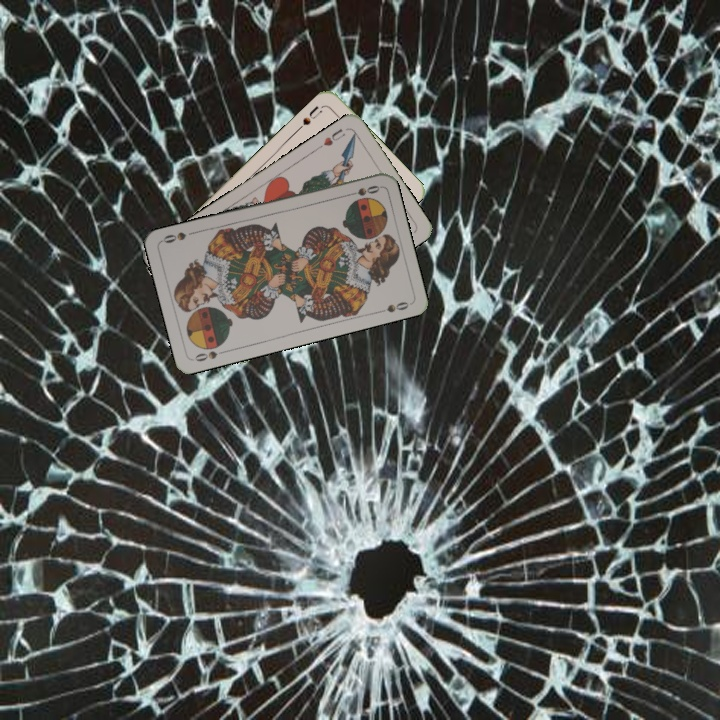HU: (319, 124, 348, 149)
SO: (342, 181, 382, 199), (189, 346, 229, 364)
SU: (293, 102, 325, 133)
